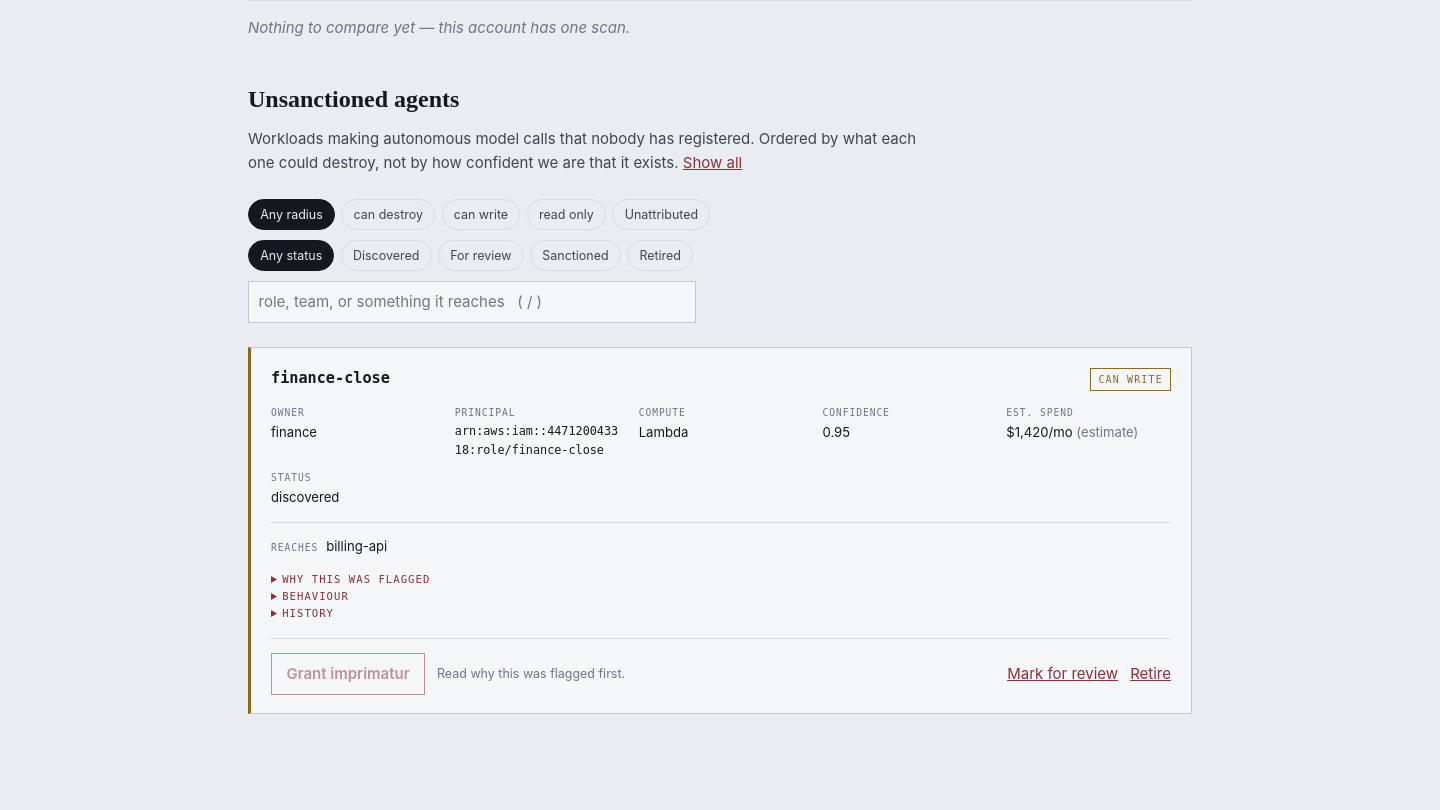
retiring an agent › keeps the dialog open when the server refuses
(page scrolled)
expect the heading "finance-close" is shown: met, box left=271, top=366, right=390, bottom=390
Click the button "Retire" at {"x": 1151, "y": 674}, box left=1130, top=662, right=1171, bottom=686
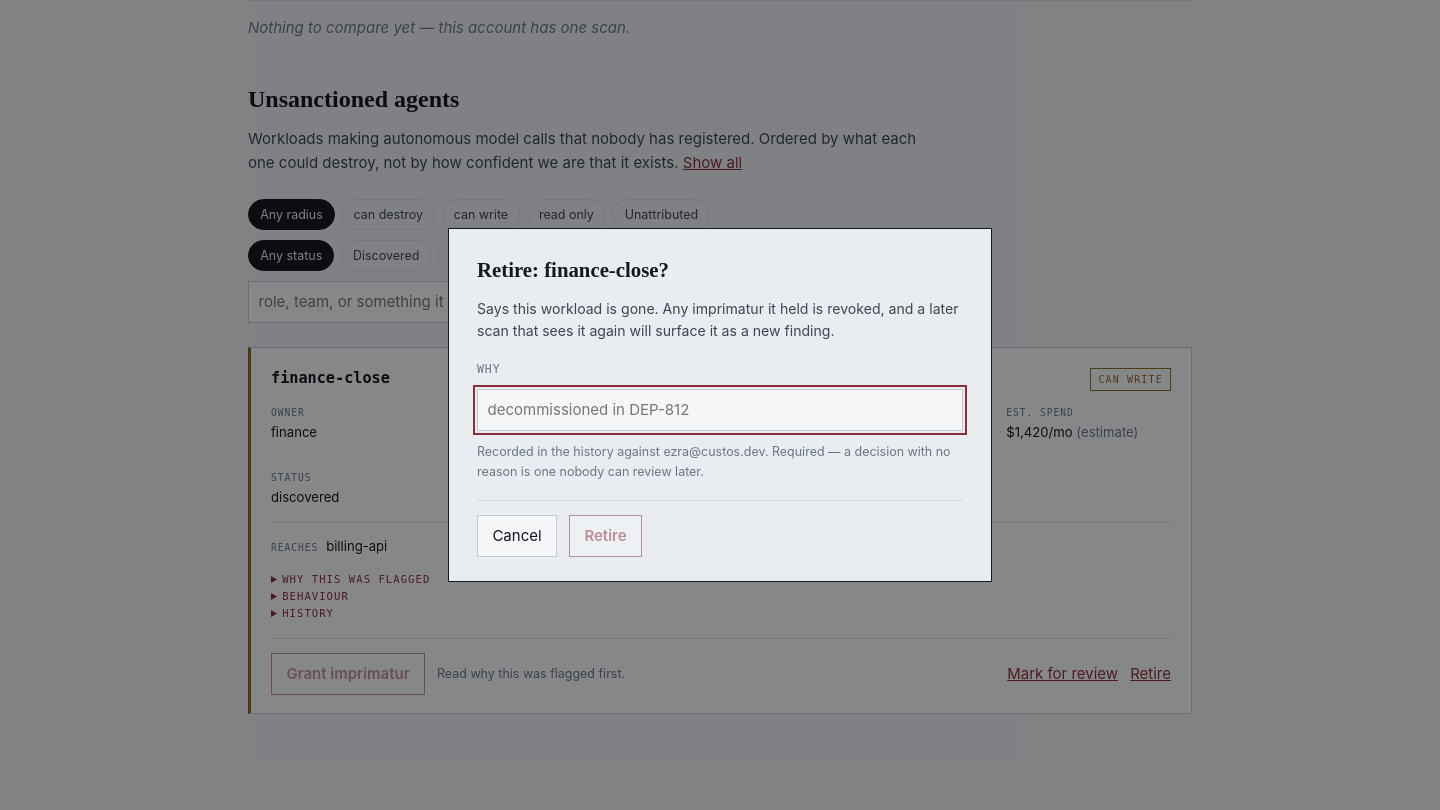
Type "gone" into the field labelled "Why" at {"x": 720, "y": 410}, box left=477, top=389, right=963, bottom=431
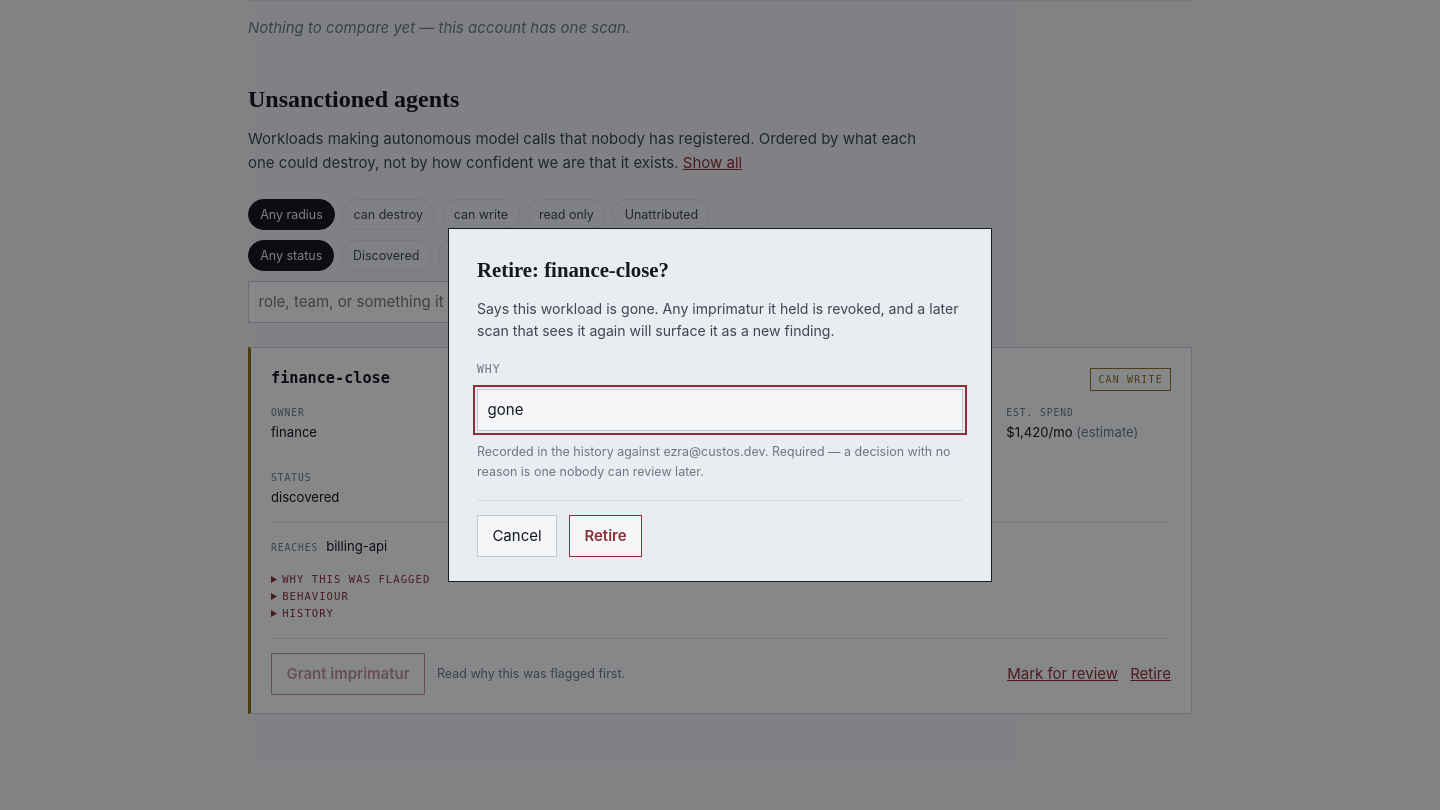
Click the button "Retire" at {"x": 606, "y": 536}, box left=569, top=515, right=642, bottom=557
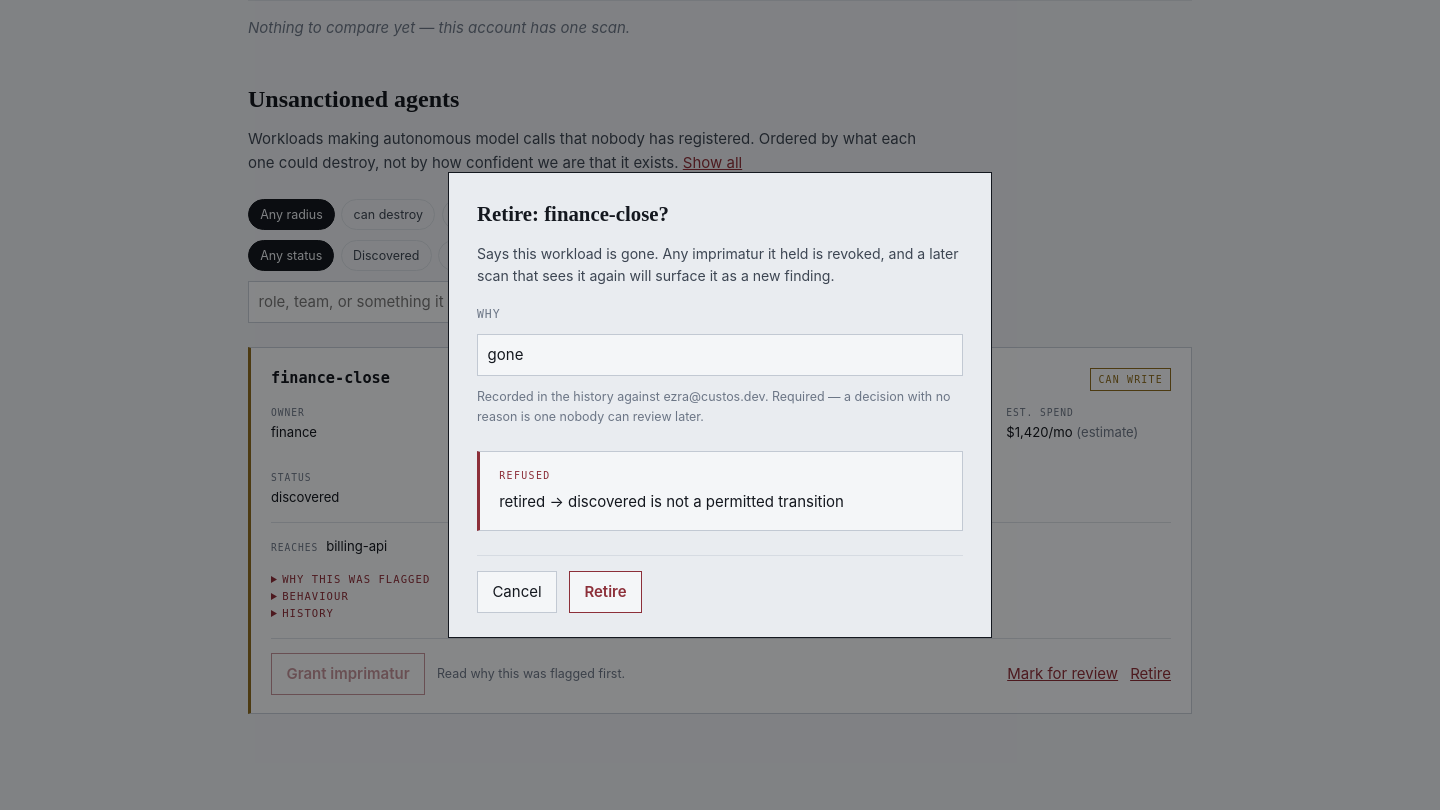
expect the dialog is shown: met, box left=448, top=172, right=992, bottom=638
expect the message shows "not a permitted transition": met, box left=499, top=492, right=844, bottom=511
